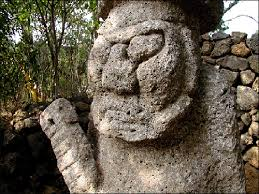Stone Statue: (33, 1, 252, 194)
